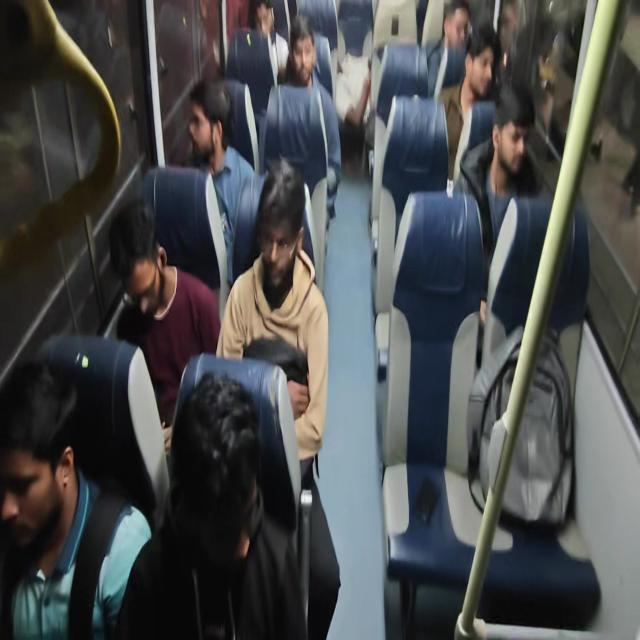person: (169, 371, 274, 574), (0, 351, 79, 578), (96, 192, 175, 327), (261, 156, 304, 302), (491, 74, 532, 175), (187, 84, 230, 172), (288, 14, 324, 96), (468, 27, 498, 103), (441, 0, 471, 59), (249, 0, 282, 48)
